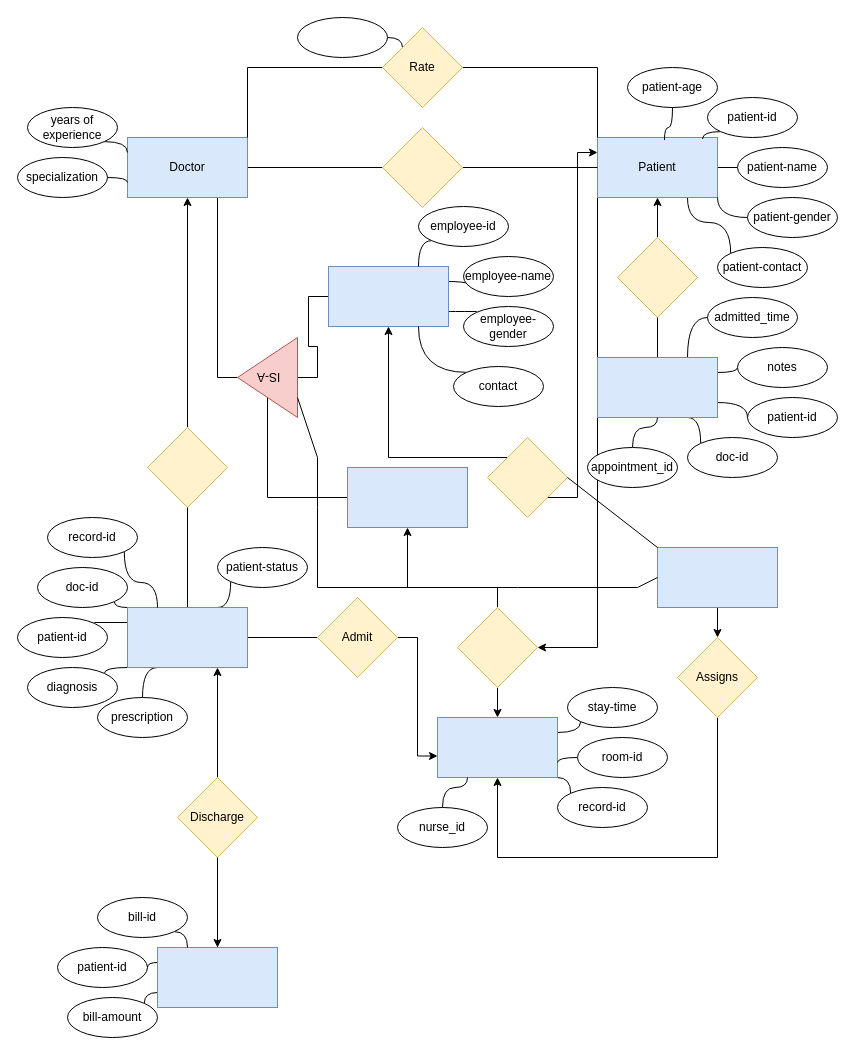
Image size: 855x1055. Some labels were removed from this diagram. The box of each missing label's shape, as (x1, y1, x2, y2) in pixels:
Adds to System: (486, 436, 568, 518)
Appointment: (596, 356, 718, 418)
Assigned To: (456, 606, 538, 688)
Books: (616, 236, 698, 318)
Consults: (382, 126, 462, 208)
Diagnose: (146, 426, 228, 508)
Employee: (328, 266, 448, 326)
Hospital Bill: (156, 946, 278, 1008)
Nurse: (346, 466, 468, 528)
rating: (296, 16, 388, 58)
Record: (126, 606, 248, 668)
Room: (436, 716, 558, 778)
System Admin: (656, 546, 778, 608)
